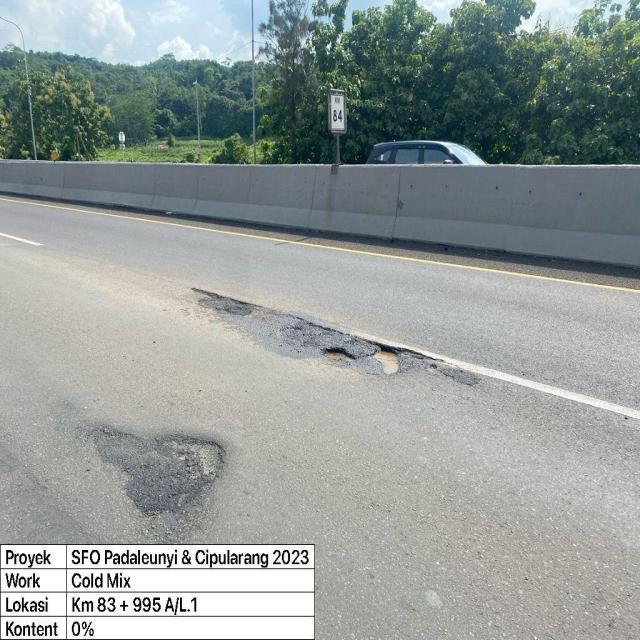Buraco: (152, 431, 228, 489), (363, 338, 428, 377), (318, 345, 361, 364)
